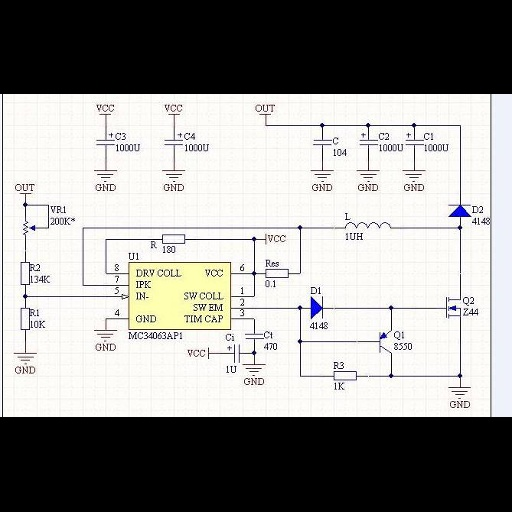capacitor: (242, 328, 264, 344), (311, 134, 332, 150)
firstdiode: (443, 201, 472, 221), (306, 295, 328, 320)
firstpolarcapacitor: (159, 126, 183, 148), (223, 341, 245, 364), (356, 130, 380, 150), (93, 129, 116, 149), (404, 130, 424, 147)
firstresistance: (156, 231, 191, 246), (328, 368, 365, 382), (259, 267, 295, 279), (18, 259, 31, 288), (18, 305, 30, 334)
gnd: (353, 167, 384, 184), (399, 167, 431, 183), (161, 166, 192, 182), (11, 349, 41, 365), (307, 168, 339, 183), (89, 168, 120, 183), (445, 384, 475, 399), (91, 327, 120, 342), (243, 362, 266, 376)
inductor: (341, 221, 395, 232)
mos: (442, 292, 462, 322)
pnp: (371, 321, 395, 359)
